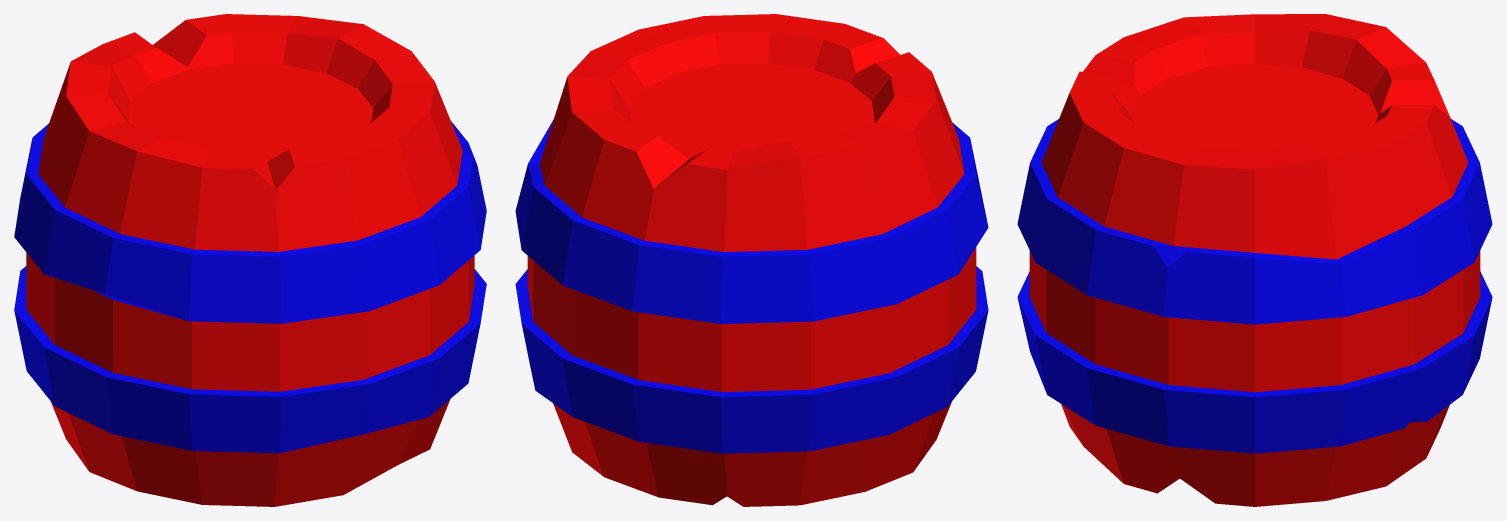
Rendered from barrel.fbx.
The picture shows the model from 3 angles, left to right: view 1: azimuth 30°, elevation 25°; view 2: azimuth 150°, elevation 25°; view 3: azimuth 270°, elevation 25°; orthographic projection.
Parts seen in each view (by area): view 1: Cylinder; view 2: Cylinder; view 3: Cylinder.
Boxes of the visible parts, x1,y1,x2,y2 form: Cylinder: [14, 14, 486, 506]; Cylinder: [515, 14, 988, 506]; Cylinder: [1017, 14, 1492, 506].
Size of the model in its own units: 256 by 208 by 256.
